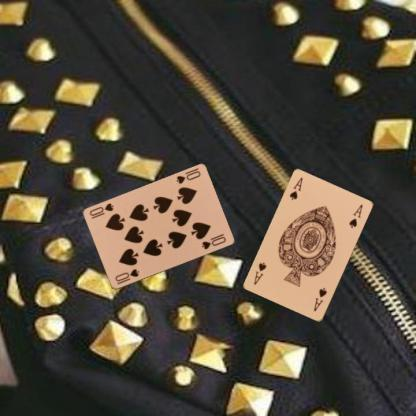10s: (113, 266, 140, 286), (173, 168, 202, 186)
As: (287, 175, 304, 202), (312, 286, 328, 313)
